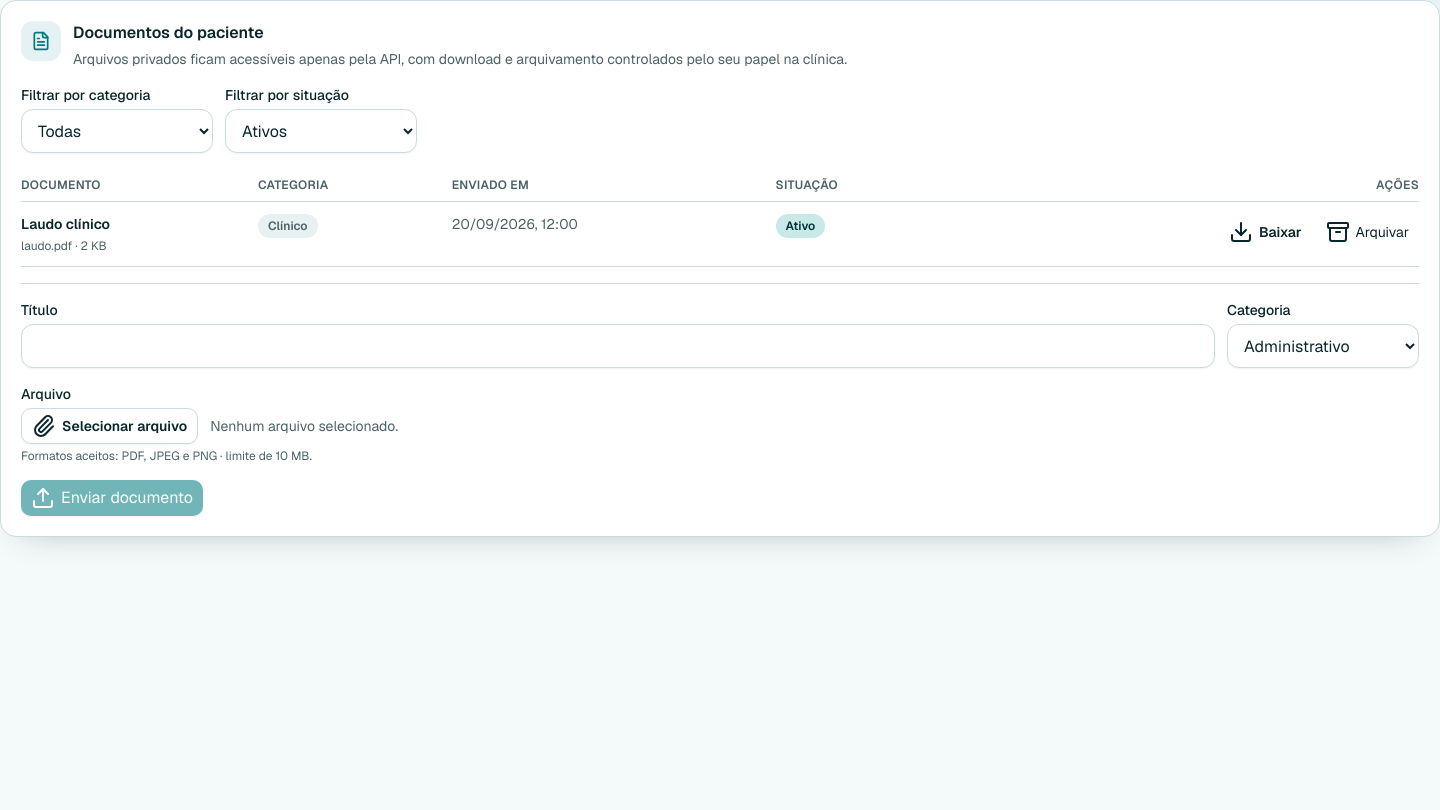
it: DocumentsPanel › shows an error when loading archived documents fails
Step 1. Select "Arquivados" in the dropdown labelled "Filtrar por situação" → point(321, 131), box [225,109,417,153]
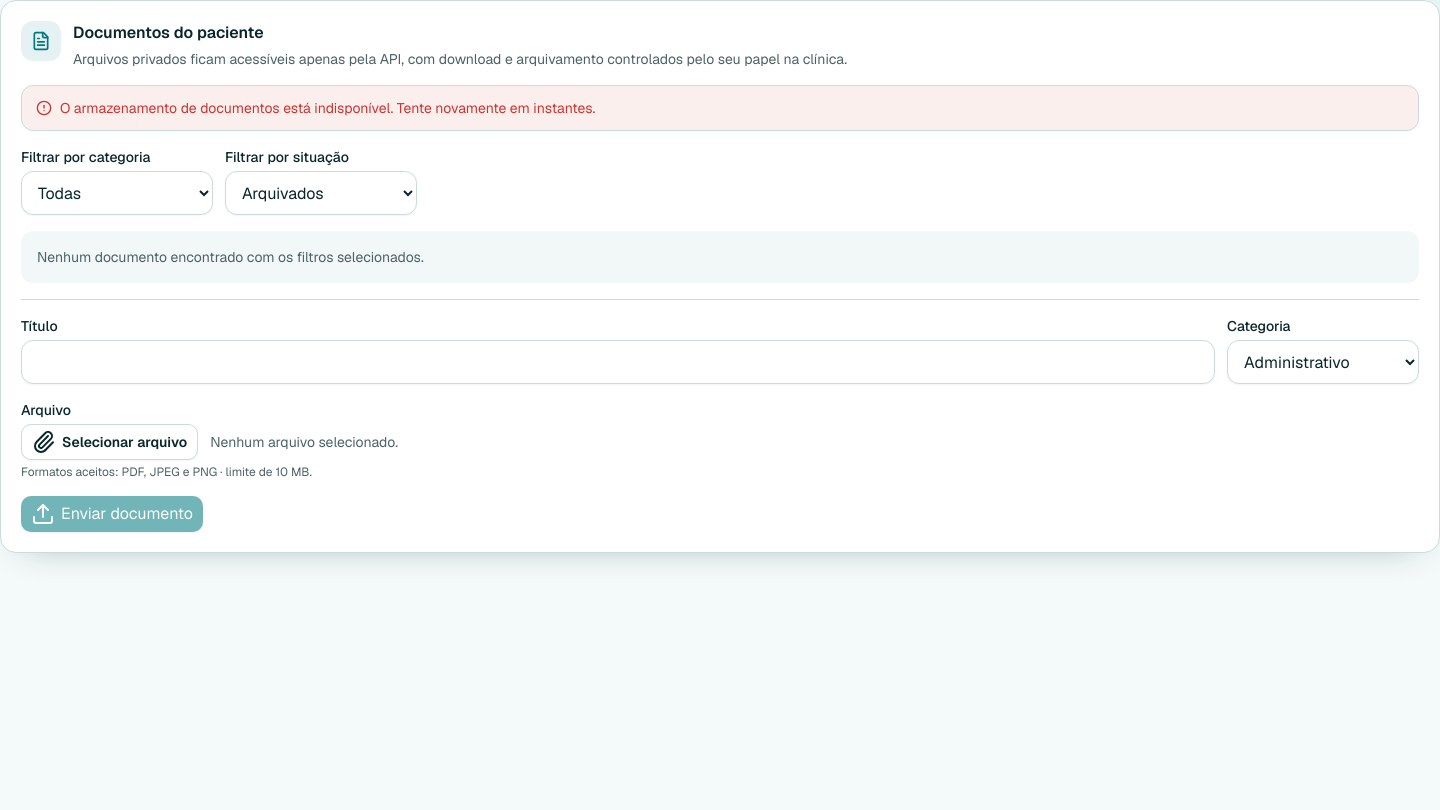
Result: the message reads "O armazenamento de documentos está indisponível. Tente novamente em instantes." at [60,99,595,117]
